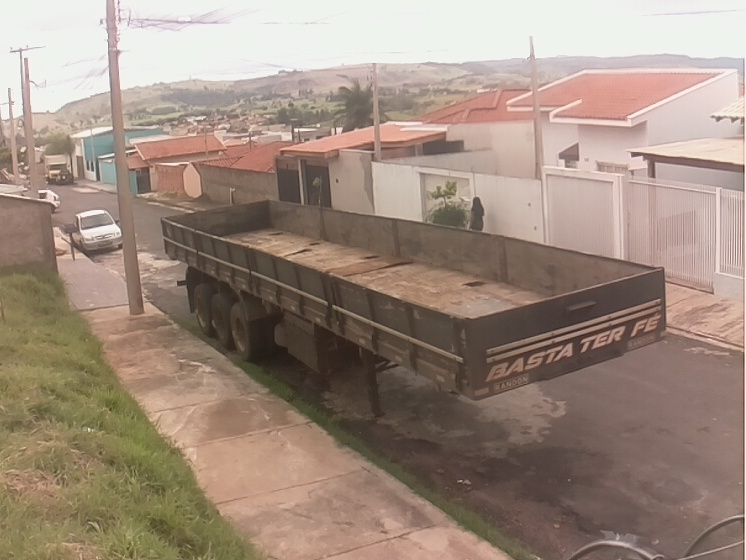person: (467, 194, 485, 233)
